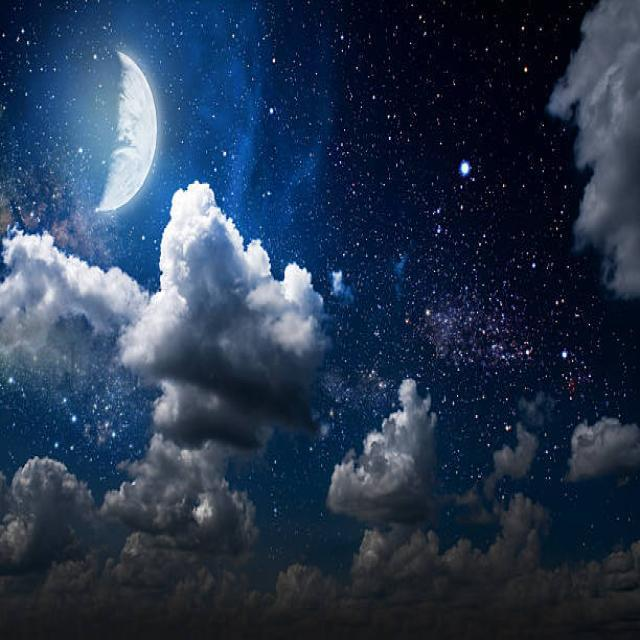moon: (44, 43, 162, 214)
